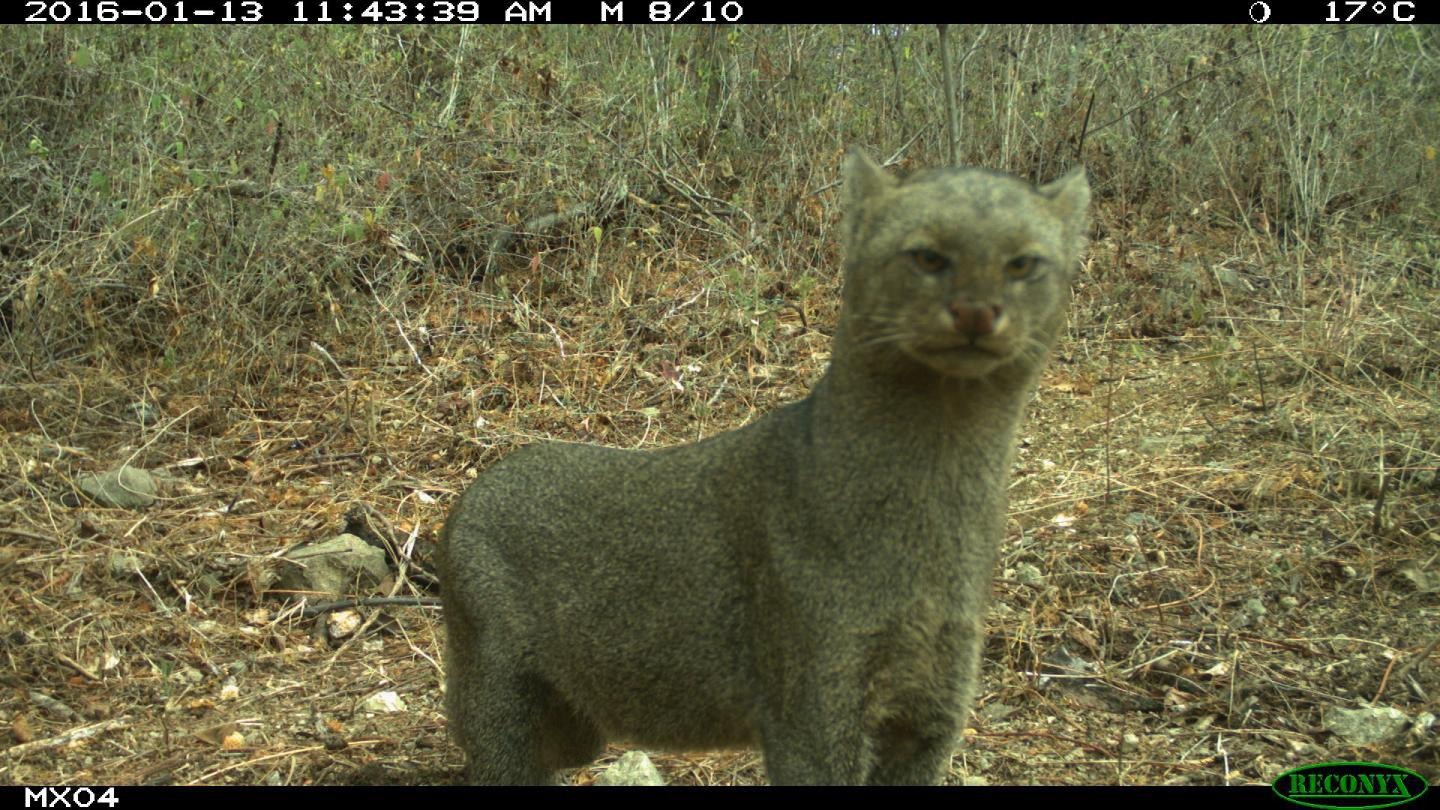Jaguarundi: (403, 141, 1109, 755)
